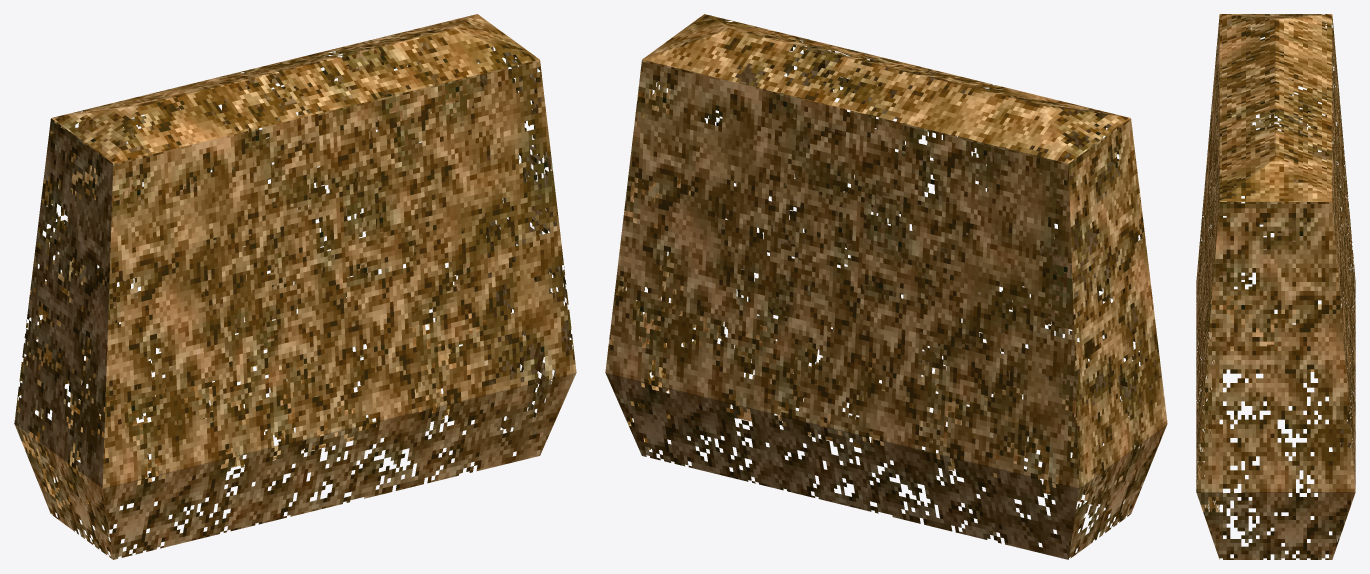
File: bush_tall_single_autumn.glb
The picture shows the model from 3 angles, left to right: view 1: azimuth 30°, elevation 25°; view 2: azimuth 150°, elevation 25°; view 3: azimuth 270°, elevation 25°; orthographic projection. The views are drawn at different scales.
Parts seen in each view (by area): view 1: bush_tall_single_autumn; view 2: bush_tall_single_autumn; view 3: bush_tall_single_autumn.
Part boxes in pixels (bbox=[...]): bush_tall_single_autumn: bbox=[14, 14, 576, 559]; bush_tall_single_autumn: bbox=[605, 14, 1167, 559]; bush_tall_single_autumn: bbox=[1196, 14, 1355, 559].
Bounding box in the file's own units: 2.23 × 1.88 × 0.7191.
1 material, 1 textured.
